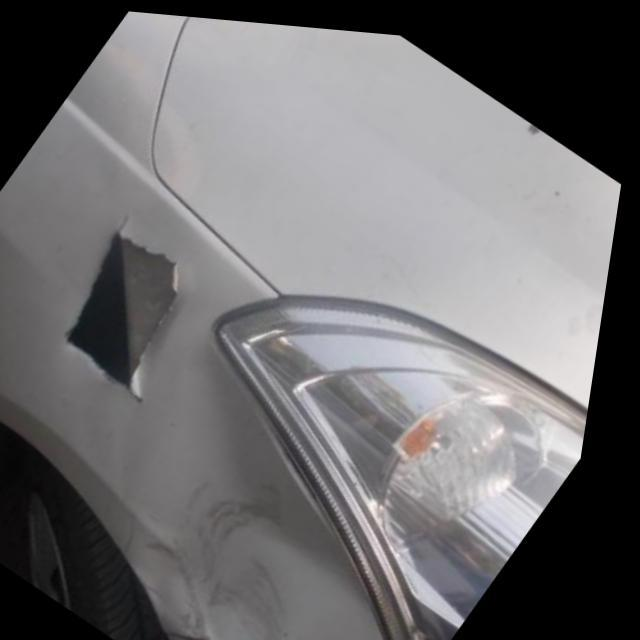dent: (145, 351, 355, 640)
rub: (69, 208, 193, 409)
